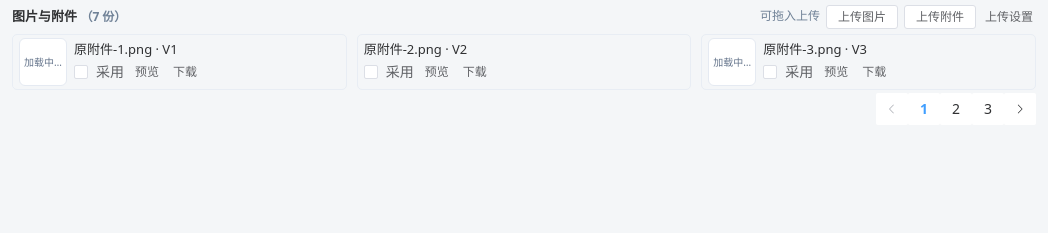
compact visible product materials › expands only low-frequency upload settings and preserves adopted IDs outside the material page
The image size is (1048, 233).
Click the button "上传设置" at (1009,16), box x1=982 y1=8 x2=1036 y2=26
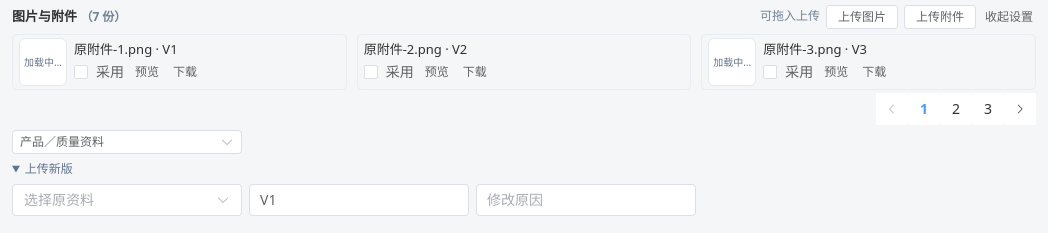
Now the 4th element named "上传资料类别" is shown, box x1=12 y1=130 x2=242 y2=154
Now the text "上传新版" is shown, box x1=25 y1=160 x2=73 y2=177
